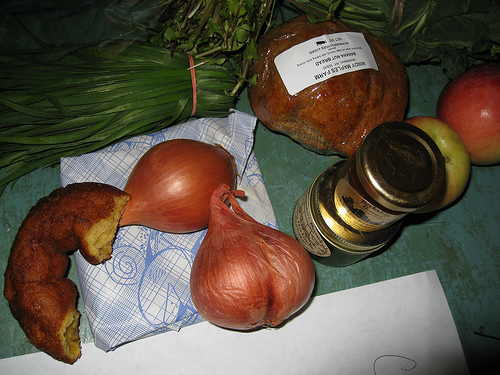onion: (189, 183, 320, 333), (118, 138, 239, 234)
